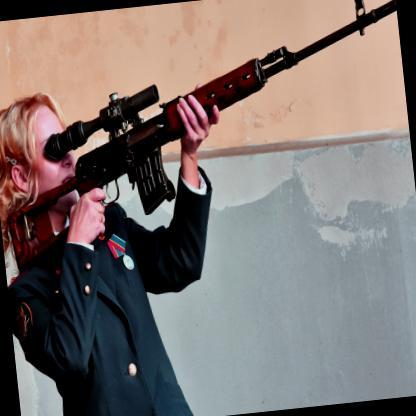rifle: (0, 0, 416, 281)
